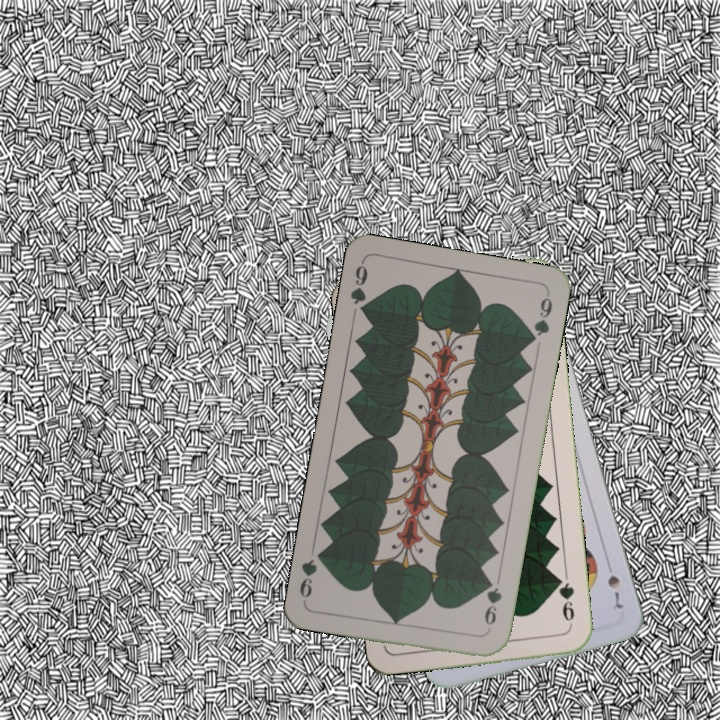G9: (346, 258, 371, 319), (552, 572, 577, 630), (480, 575, 504, 635)
S7: (603, 571, 626, 612)
